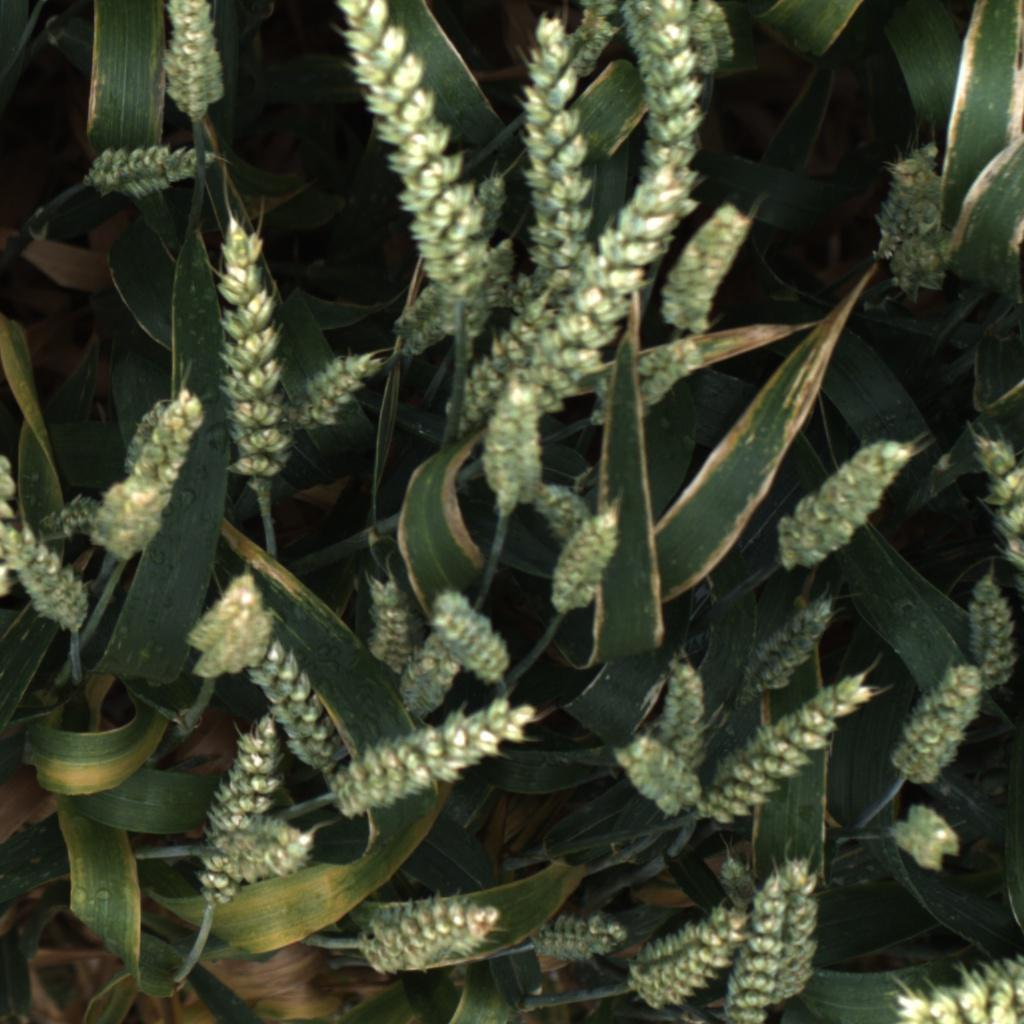0-0: (331, 0, 499, 313), (513, 155, 697, 415), (325, 693, 556, 826), (693, 673, 876, 836), (205, 215, 299, 485), (91, 385, 216, 570), (518, 5, 595, 304), (441, 282, 568, 445), (772, 432, 914, 573), (196, 702, 289, 909), (618, 0, 704, 202), (621, 897, 755, 1011), (246, 635, 345, 785), (738, 851, 823, 1016), (892, 657, 994, 790), (656, 202, 753, 340), (714, 862, 796, 1024), (356, 891, 501, 981), (585, 332, 713, 433), (179, 561, 282, 684), (736, 584, 848, 697), (273, 345, 387, 448), (864, 146, 949, 268), (473, 376, 548, 514), (0, 512, 88, 629), (430, 571, 515, 691), (542, 509, 627, 627), (89, 133, 225, 198), (452, 232, 520, 362), (611, 733, 709, 821), (160, 0, 230, 118), (395, 610, 470, 719), (972, 416, 1024, 573), (959, 560, 1021, 686), (530, 901, 632, 975), (886, 204, 959, 306), (887, 796, 967, 877), (245, 814, 327, 893), (656, 647, 711, 761), (394, 276, 465, 362), (562, 0, 631, 84), (360, 569, 413, 672), (529, 478, 602, 552), (120, 391, 171, 487), (686, 0, 741, 85), (41, 491, 112, 555), (0, 448, 27, 610), (712, 848, 763, 921), (472, 166, 510, 251), (495, 263, 550, 317)
